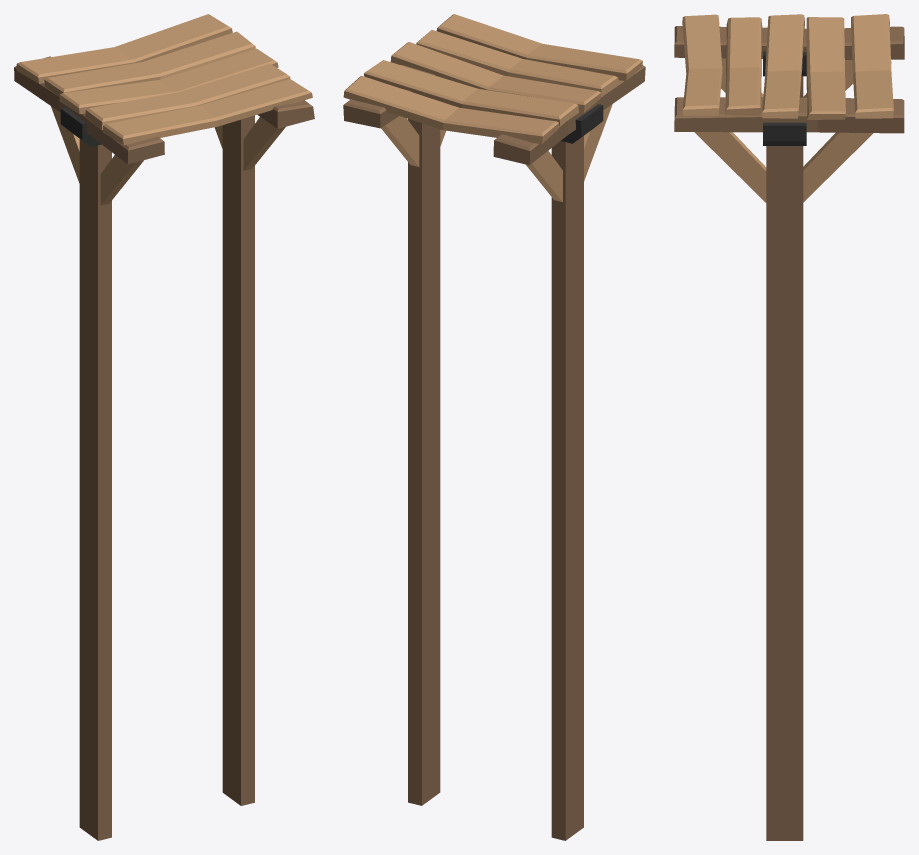
The model's file is woodfloor.fbx.
The picture shows the model from 3 angles, left to right: view 1: azimuth 30°, elevation 25°; view 2: azimuth 150°, elevation 25°; view 3: azimuth 270°, elevation 25°; orthographic projection.
Parts seen in each view (by area): view 1: woodfloor; view 2: woodfloor; view 3: woodfloor.
Boxes of the visible parts, bbox=[...] form: woodfloor: bbox=[14, 14, 314, 840]; woodfloor: bbox=[343, 14, 645, 840]; woodfloor: bbox=[674, 14, 904, 840].
Size of the model in its own units: 2.01 by 7.1 by 2.
